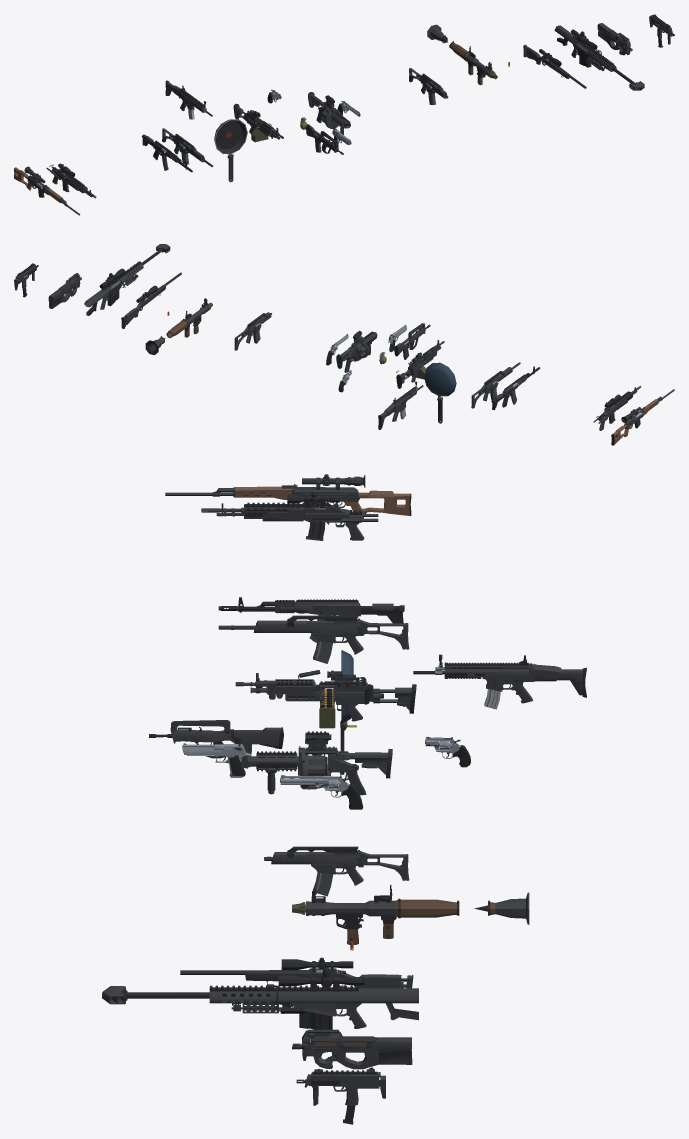
File: weapons.glb
3 renders of one model, top to bottom at view 1: azimuth 30°, elevation 25°; view 2: azimuth 150°, elevation 25°; view 3: azimuth 270°, elevation 25°, orthographic. The views are drawn at different scales.
Visible parts, largest first — view 1: item_50, item_8, item_31, item_11, item_0, item_2, item_9, item_47, item_6, item_52, item_37, item_5 (+3 smaller); view 2: item_50, item_8, item_31, item_11, item_0, item_9, item_2, item_47, item_6, item_52, item_37, item_5 (+3 smaller); view 3: item_50, item_11, item_31, item_2, item_9, item_0, item_6, item_52, item_37, item_47, item_43, item_5 (+5 smaller).
Boxes of the visible parts, bbox=[...] form: item_50: bbox=[554, 25, 644, 90]; item_8: bbox=[214, 119, 247, 182]; item_31: bbox=[308, 92, 350, 134]; item_11: bbox=[233, 103, 283, 142]; item_0: bbox=[14, 166, 80, 215]; item_2: bbox=[46, 163, 96, 198]; item_9: bbox=[165, 80, 212, 119]; item_47: bbox=[523, 44, 586, 88]; item_6: bbox=[162, 128, 213, 167]; item_52: bbox=[597, 23, 632, 55]; item_37: bbox=[409, 68, 448, 104]; item_5: bbox=[142, 134, 192, 172]; item_50: bbox=[84, 244, 170, 315]; item_8: bbox=[424, 362, 456, 423]; item_31: bbox=[336, 331, 377, 372]; item_11: bbox=[396, 340, 444, 388]; item_0: bbox=[611, 389, 674, 445]; item_9: bbox=[378, 381, 423, 429]; item_2: bbox=[593, 386, 641, 430]; item_47: bbox=[121, 272, 181, 328]; item_6: bbox=[471, 362, 520, 408]; item_52: bbox=[48, 273, 81, 308]; item_37: bbox=[234, 312, 271, 350]; item_5: bbox=[491, 366, 540, 410]; item_50: bbox=[102, 967, 418, 1029]; item_11: bbox=[235, 670, 416, 728]; item_31: bbox=[247, 731, 392, 795]; item_2: bbox=[201, 492, 378, 540]; item_9: bbox=[413, 654, 586, 709]; item_0: bbox=[165, 474, 411, 515]; item_6: bbox=[218, 615, 409, 663]; item_52: bbox=[292, 1029, 412, 1069]; item_37: bbox=[264, 846, 409, 896]; item_47: bbox=[180, 957, 413, 988]; item_43: bbox=[292, 885, 400, 944]; item_5: bbox=[218, 597, 404, 642].
Bounding box in the file's own units: 8.79 × 0.9003 × 3.03.
3 materials, 3 textured.
